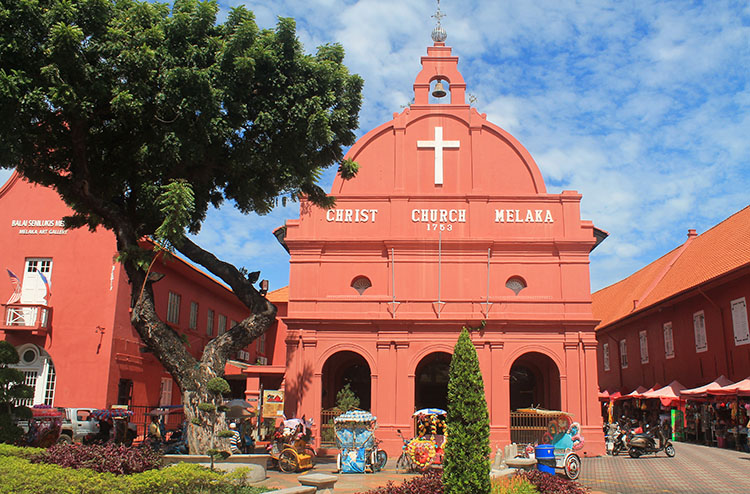Church: (271, 4, 607, 462)
